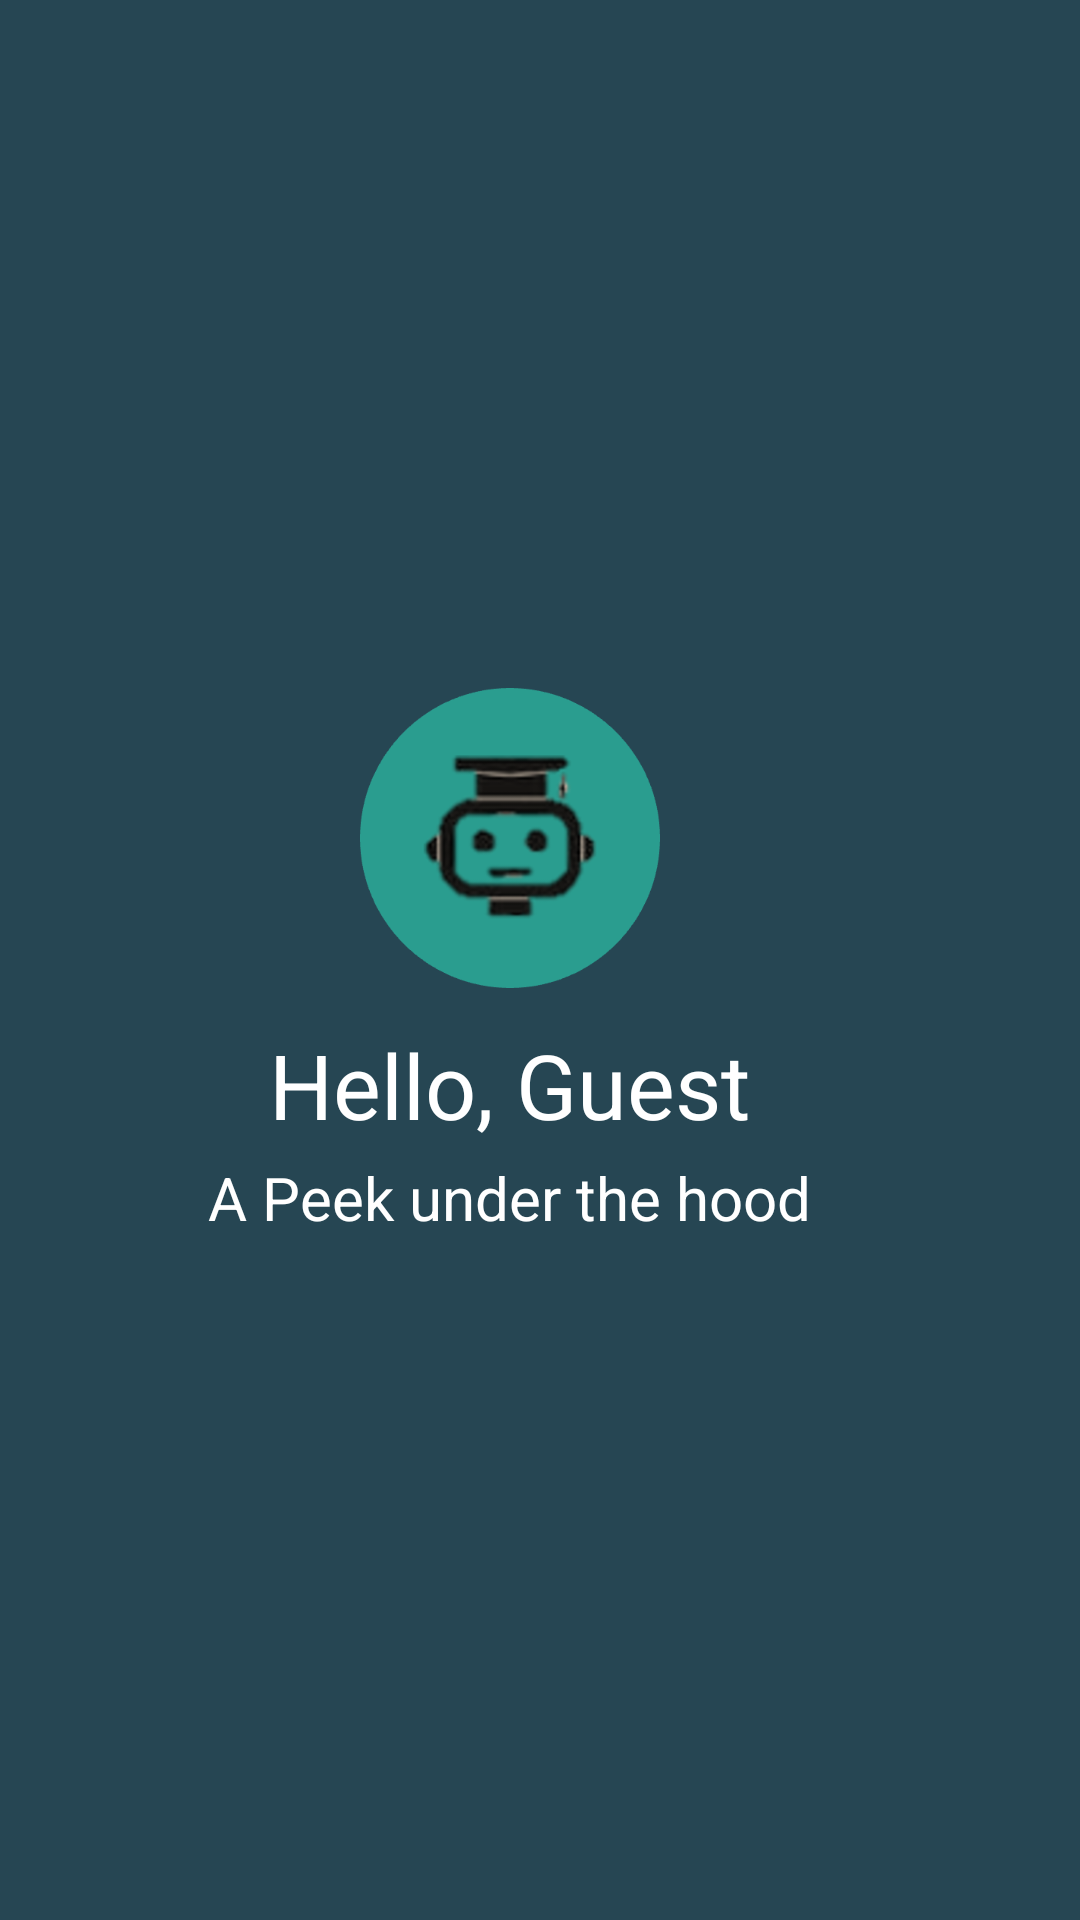

Screen size 1080w x 1920h. Icon name, then its box in pixels as (x1, y1, x2, y2):
study: (360, 688, 660, 988)
